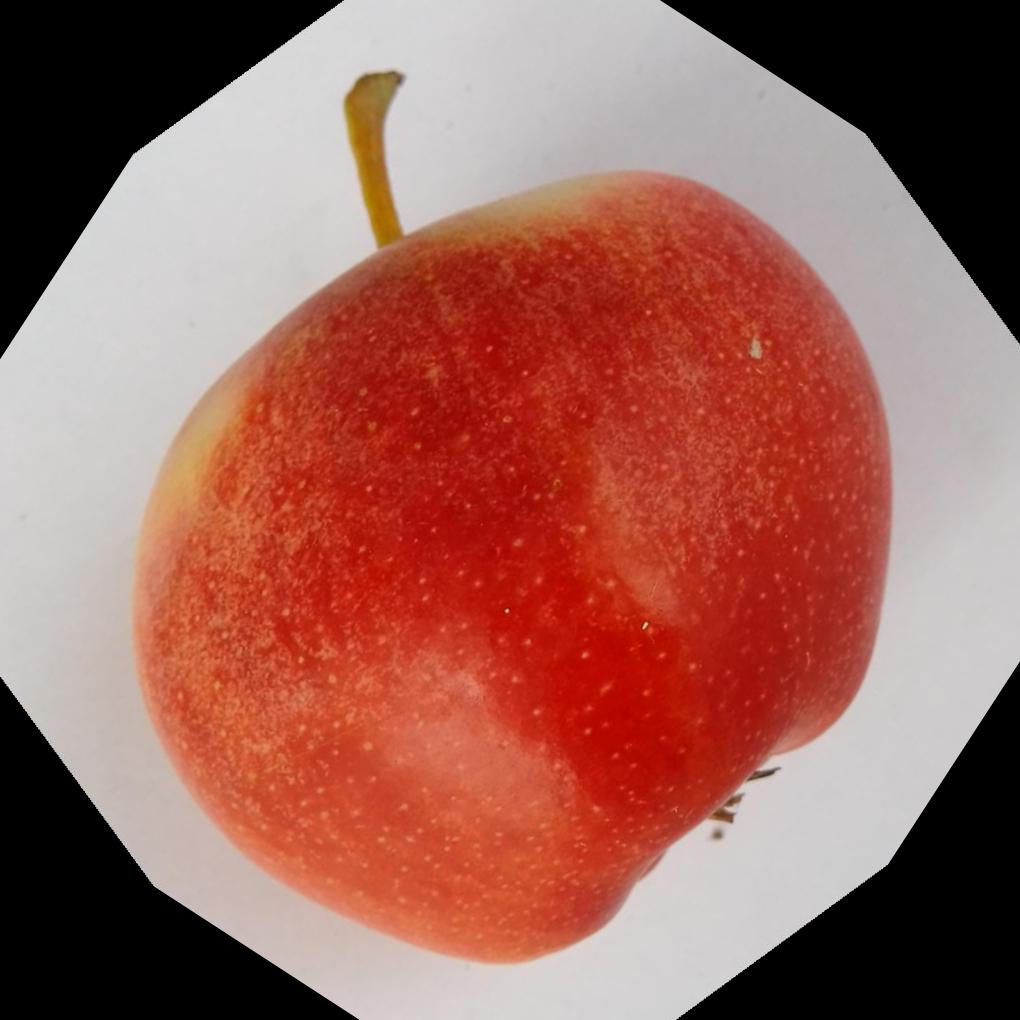FreshGuava: (130, 167, 898, 971)
